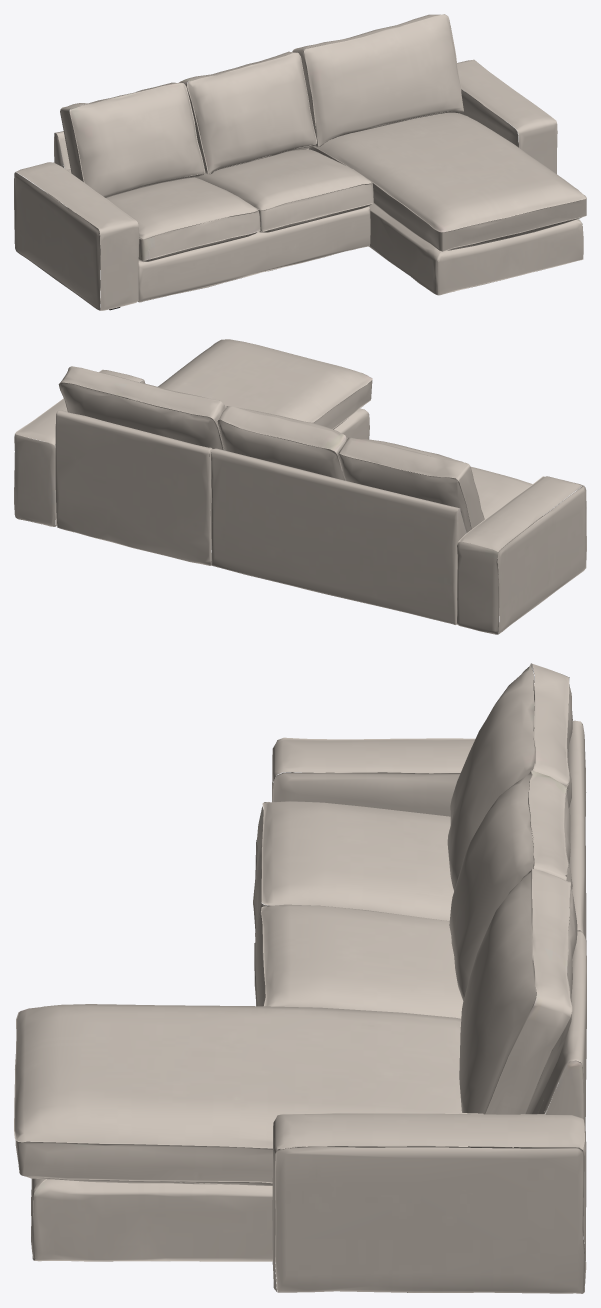
File: 17 - KIVIK - 三人座沙發附躺椅，Tresund 淺米色 IKEA 線上購物.glb
3 renders of one model, top to bottom at view 1: azimuth 30°, elevation 25°; view 2: azimuth 150°, elevation 25°; view 3: azimuth 270°, elevation 25°, orthographic. The views are drawn at different scales.
Visible parts, largest first — view 1: Mesh_0; view 2: Mesh_0; view 3: Mesh_0.
Part boxes in pixels (x1=…): Mesh_0: x1=14, y1=14, x2=586, y2=310; Mesh_0: x1=14, y1=339, x2=586, y2=634; Mesh_0: x1=14, y1=663, x2=586, y2=1293.
Size of the model in its own units: 2.79 by 0.8671 by 1.64.
Materials: 1 (1 with a texture image).
